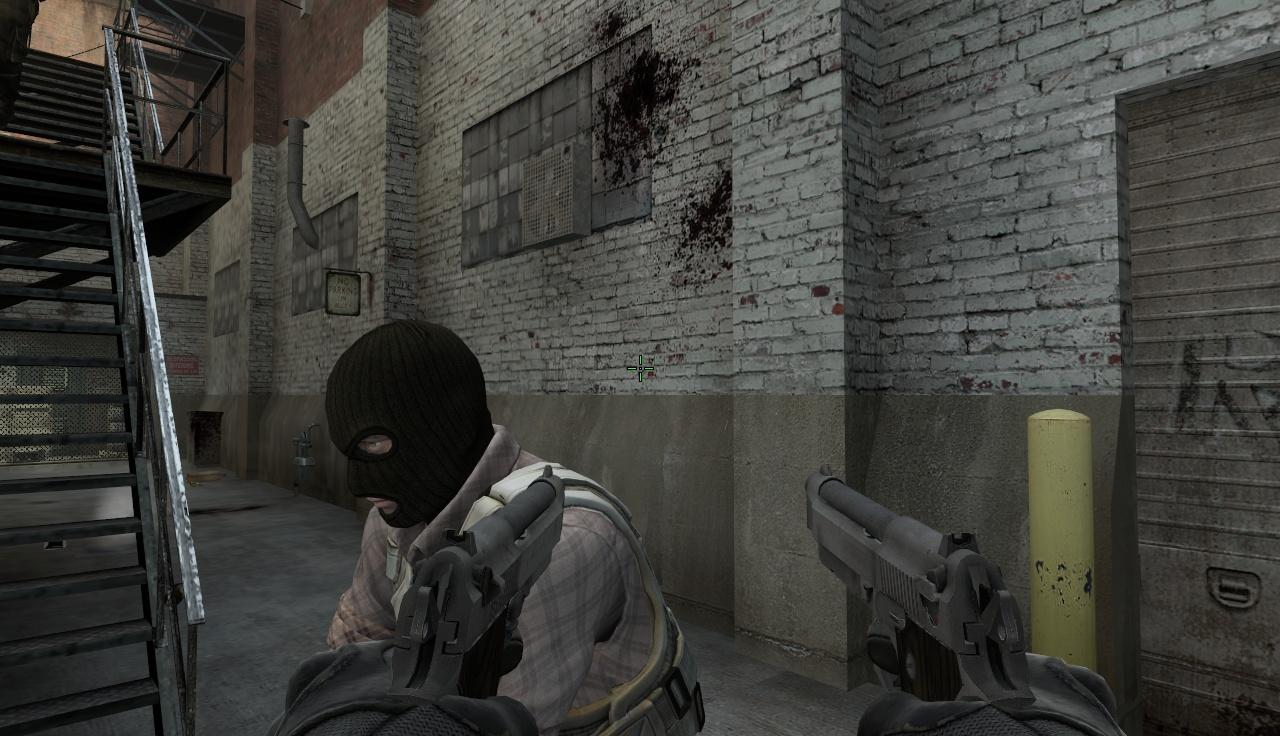pistol: (791, 472, 1122, 736)
tt: (320, 320, 681, 736)
tthead: (329, 321, 493, 529)
